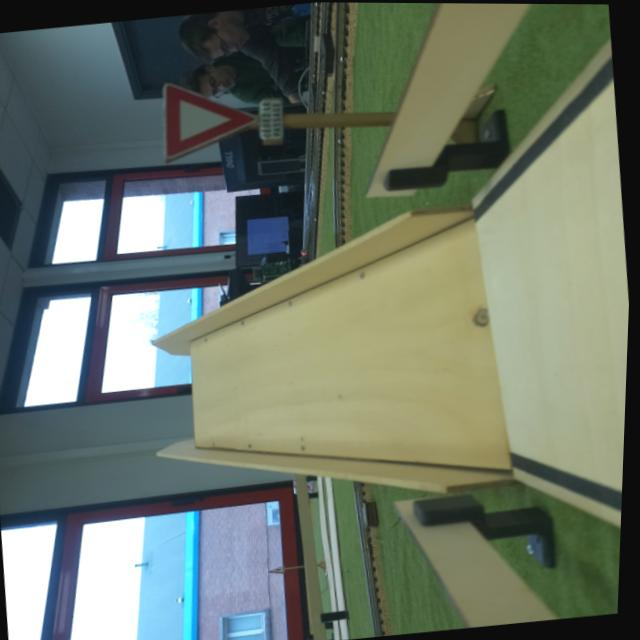panneau_ceder_passage: (145, 65, 290, 169)
pont: (123, 193, 524, 512)
